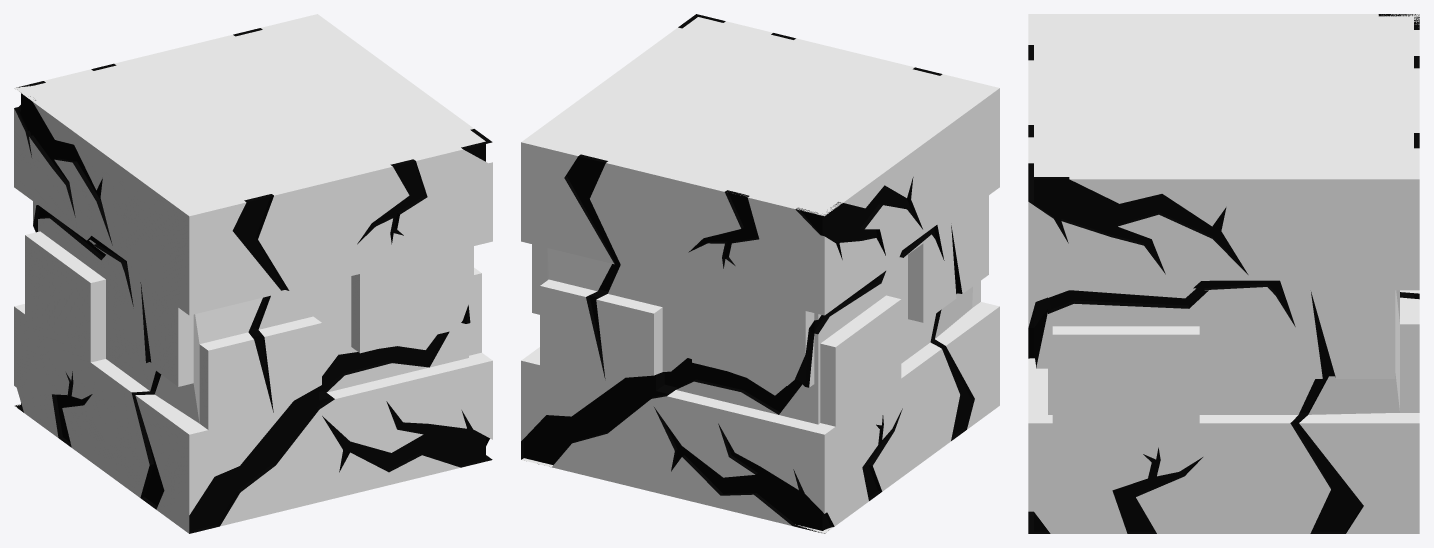
File: CrackedBedrockMagma.fbx
3 views of the same model, side by side, from view 1: azimuth 30°, elevation 25°; view 2: azimuth 150°, elevation 25°; view 3: azimuth 270°, elevation 25° (orthographic). The views are drawn at different scales.
Parts seen in each view (by area): view 1: Bedrock Corner R; view 2: Bedrock Corner R; view 3: Bedrock Corner R.
Boxes of the visible parts, <box> form: Bedrock Corner R: <box>14,14,492,533</box>; Bedrock Corner R: <box>521,14,999,533</box>; Bedrock Corner R: <box>1028,14,1419,533</box>.
Bounding box in the file's own units: 1 × 1 × 1.
